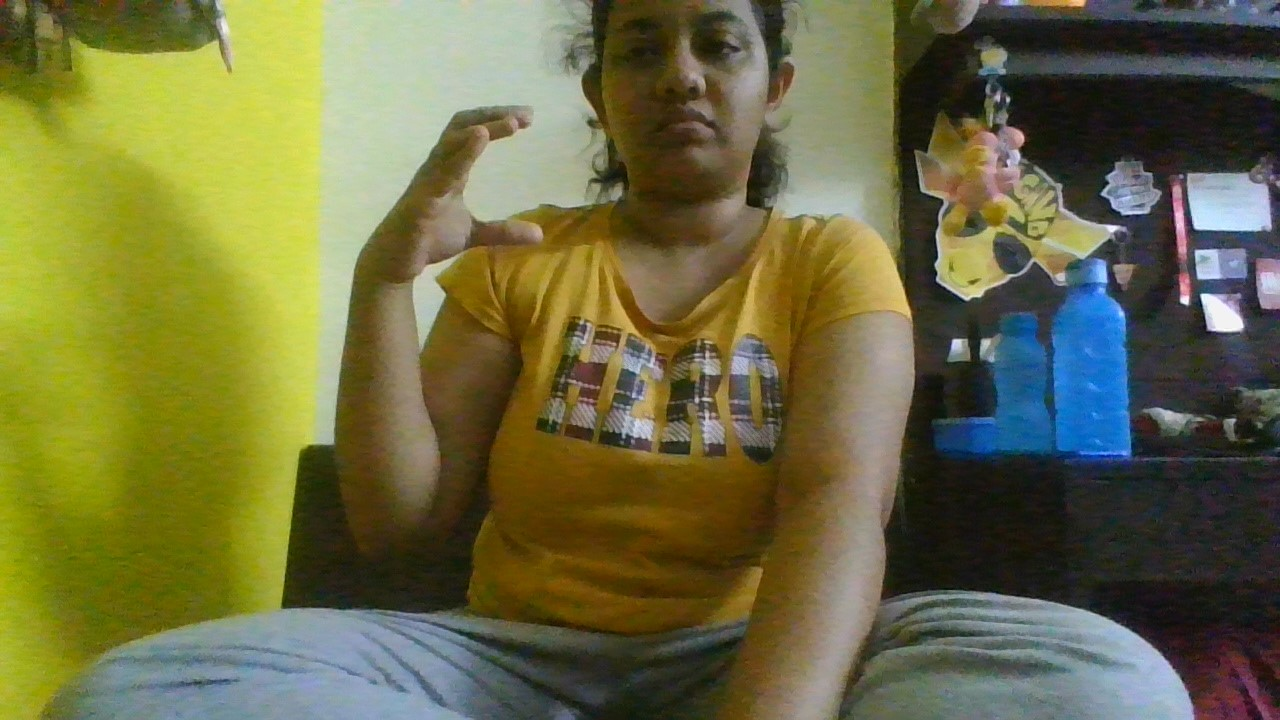c: (340, 94, 555, 300)
